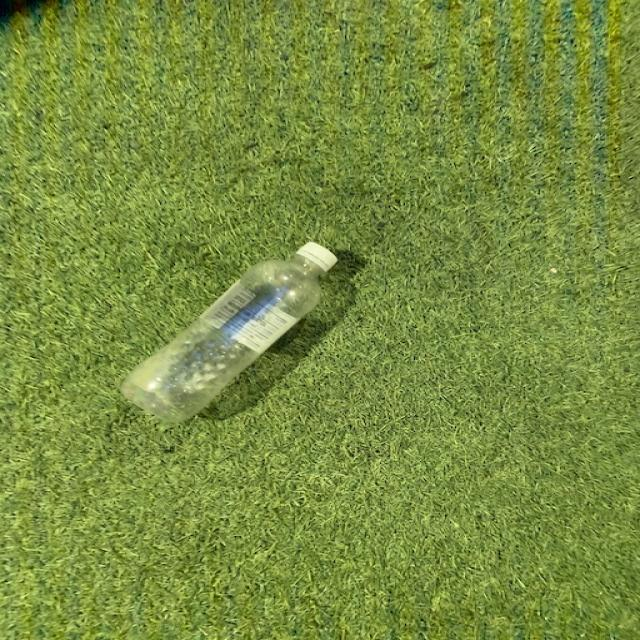litter: (116, 236, 342, 426)
